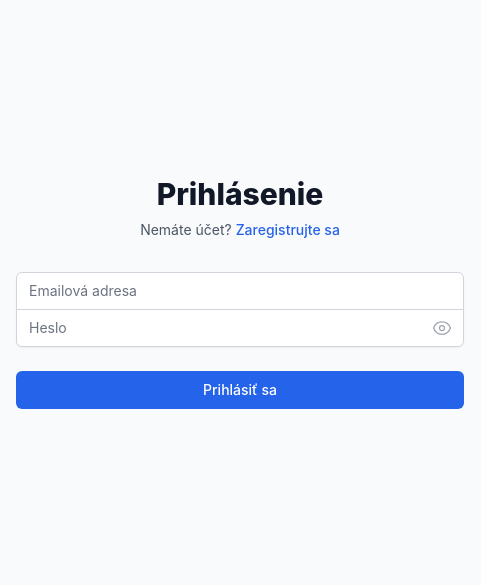
Scenario: OnboardingWizard › switches to registration form when clicking register link
The width and height of the screenshot is (481, 585).
Click the button "Zaregistrujte sa": x=288, y=230 left=236, top=220, right=340, bottom=240
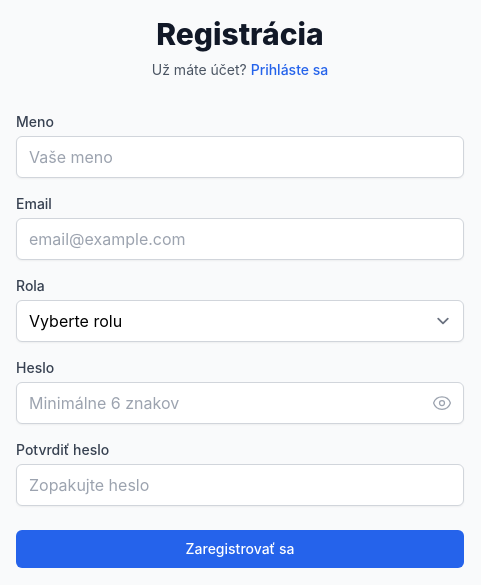
expect the heading "Registrácia" is shown: met, box left=156, top=16, right=324, bottom=52
expect the field with placeholder "Vaše meno" is shown: met, box left=16, top=136, right=464, bottom=178
